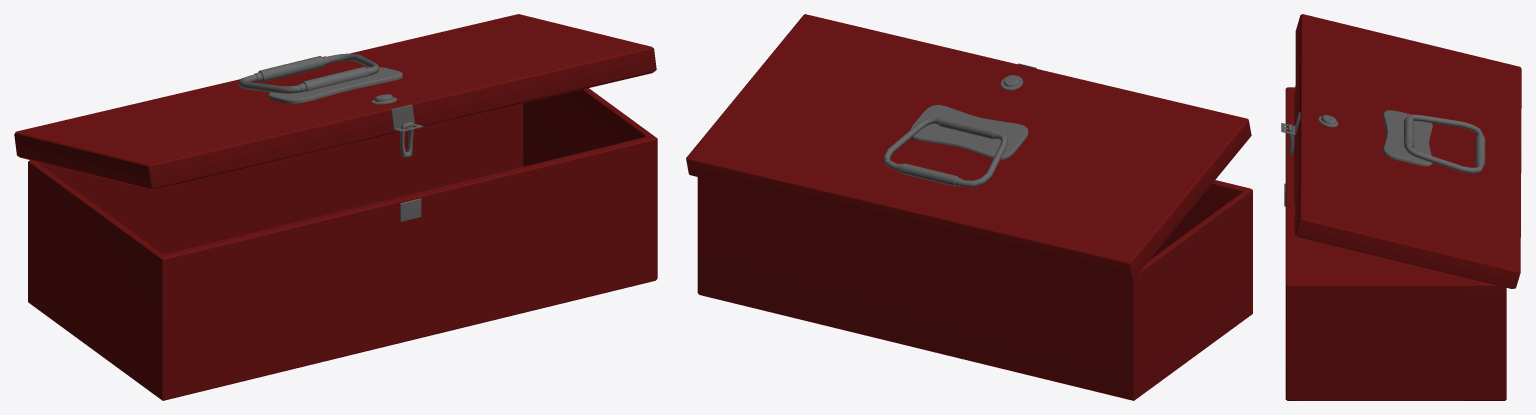
The model's file is SeanElstonToolboxOpenFinal.fbx.
3 renders of one model, left to right at view 1: azimuth 30°, elevation 25°; view 2: azimuth 150°, elevation 25°; view 3: azimuth 270°, elevation 25°, orthographic. The views are drawn at different scales.
Parts seen in each view (by area): view 1: ToolboxOpen; view 2: ToolboxOpen; view 3: ToolboxOpen.
Boxes of the visible parts, <box> form: ToolboxOpen: <box>14,14,657,400</box>; ToolboxOpen: <box>686,14,1252,400</box>; ToolboxOpen: <box>1281,14,1521,400</box>.
Size of the model in its own units: 60.73 by 26.46 by 30.57.
